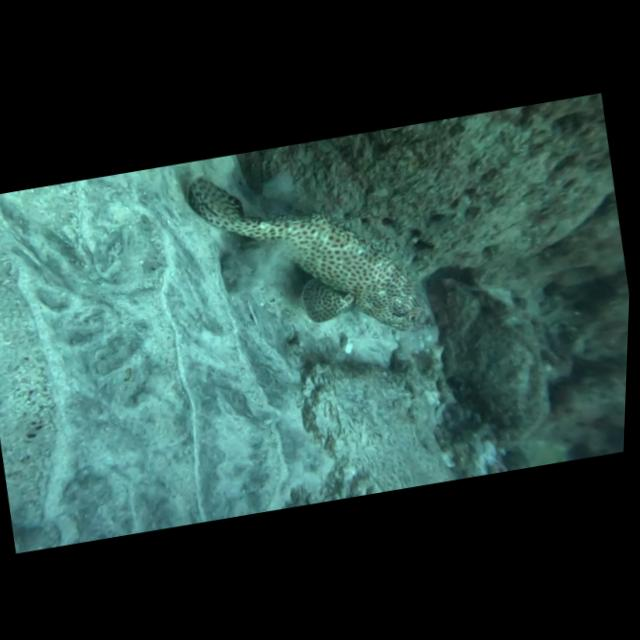Groupers: (177, 138, 442, 367)
